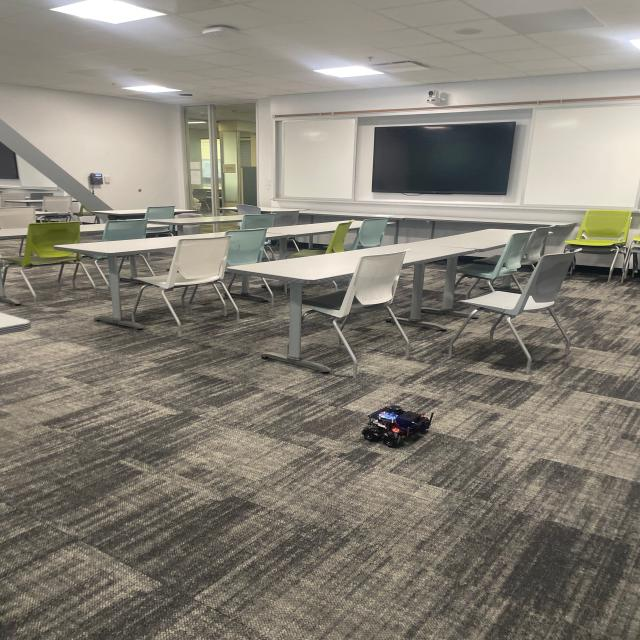ArduinoCar: (360, 405, 432, 449)
